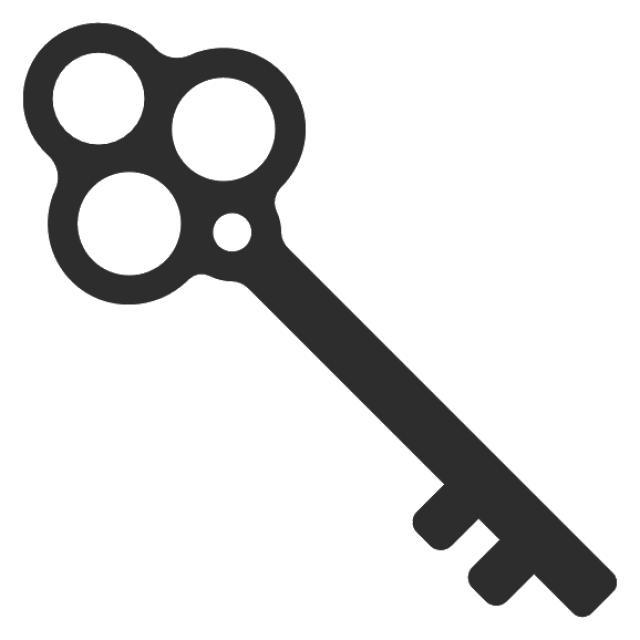key: (8, 14, 629, 631)
